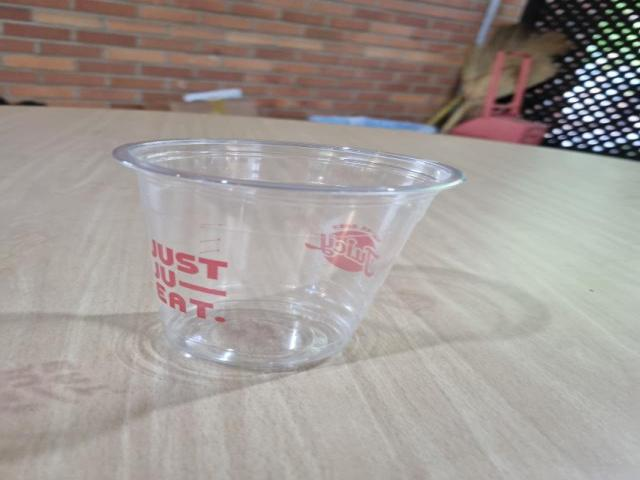cup: (101, 134, 474, 377)
